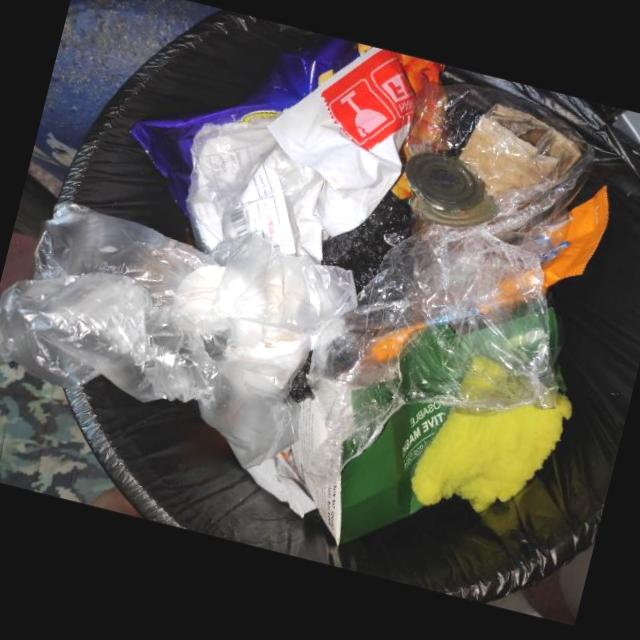nhom: (404, 153, 497, 226)
tui_ni_long: (302, 149, 595, 488), (0, 202, 356, 469), (268, 46, 443, 230), (187, 115, 398, 263)
